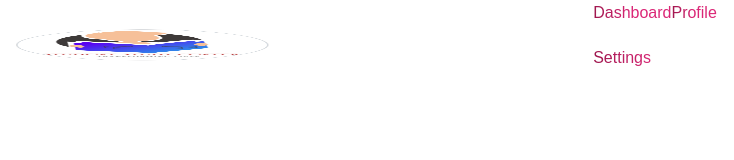
Test: Navbar › Desktop View › opens dropdown on desktop link click
Click the link "Settings".
click(655, 58)  # box [593,25,717,91]
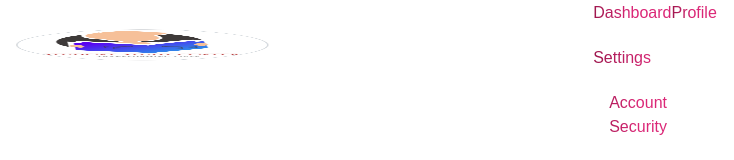
Now the link "Account" is shown, box [593,91,683,115]
Now the link "Security" is shown, box [593,115,683,139]
